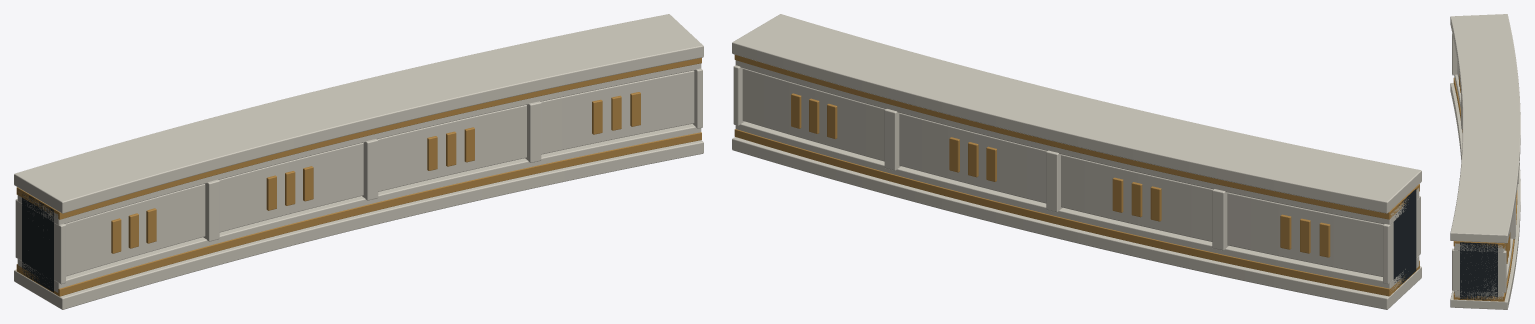
The model's file is SM_Aurelion_KIT_Z10CeilingRing32.fbx.
3 renders of one model, left to right at view 1: azimuth 30°, elevation 25°; view 2: azimuth 150°, elevation 25°; view 3: azimuth 270°, elevation 25°, orthographic. The views are drawn at different scales.
Visible parts, largest first — view 1: SM_Aurelion_KIT_Z10CeilingRing32; view 2: SM_Aurelion_KIT_Z10CeilingRing32; view 3: SM_Aurelion_KIT_Z10CeilingRing32.
Boxes of the visible parts, x1,y1,x2,y2 form: SM_Aurelion_KIT_Z10CeilingRing32: (14, 14, 703, 309); SM_Aurelion_KIT_Z10CeilingRing32: (732, 14, 1421, 309); SM_Aurelion_KIT_Z10CeilingRing32: (1450, 14, 1520, 309).
Size of the model in its own units: 634 by 85.17 by 100.
